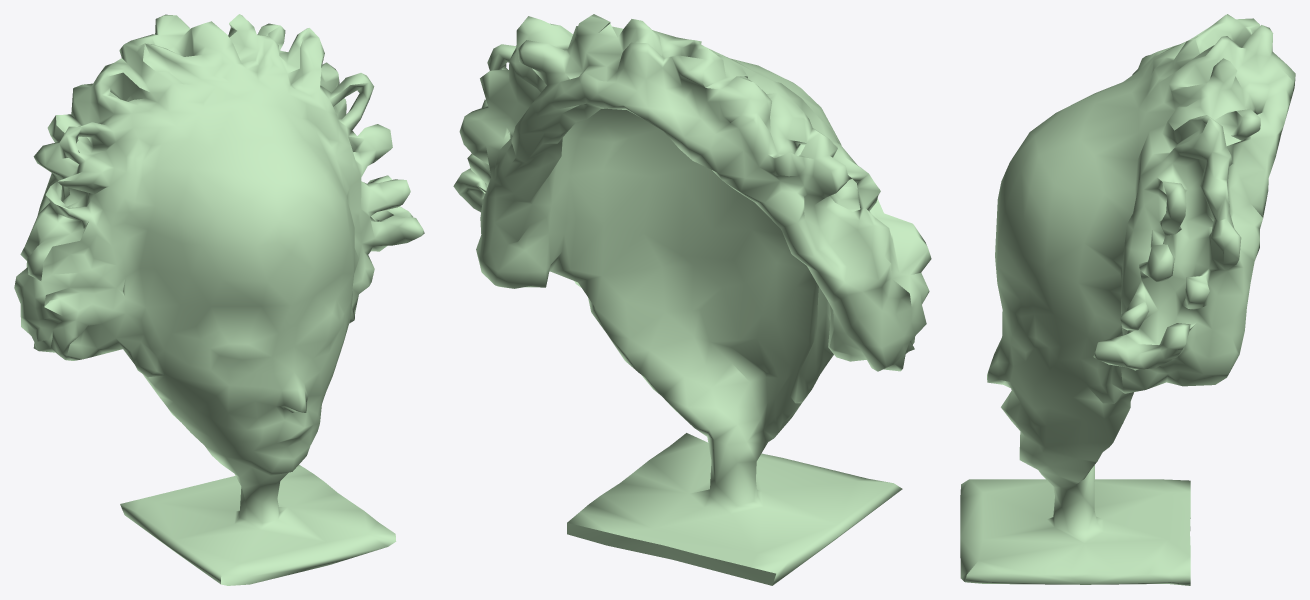
The model's file is mask_7.fbx.
3 views of the same model, side by side, from view 1: azimuth 30°, elevation 25°; view 2: azimuth 150°, elevation 25°; view 3: azimuth 270°, elevation 25° (orthographic). The views are drawn at different scales.
Visible parts, largest first — view 1: SM_mask_7; view 2: SM_mask_7; view 3: SM_mask_7.
Boxes of the visible parts, <box> form: SM_mask_7: <box>14,14,424,585</box>; SM_mask_7: <box>453,14,931,585</box>; SM_mask_7: <box>960,14,1295,585</box>.
Bounding box in the file's own units: 32.86 × 37.77 × 22.53.
